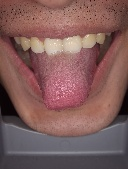tongue: (28, 54, 101, 112)
